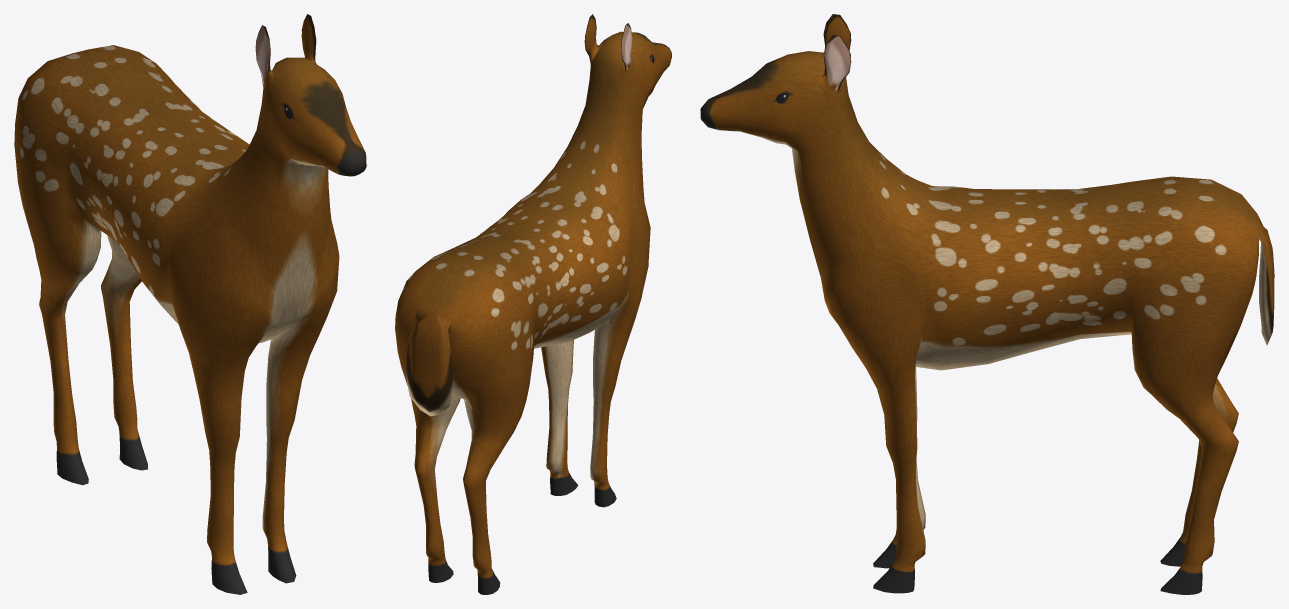
Rendered from deer.fbx.
3 renders of one model, left to right at view 1: azimuth 30°, elevation 25°; view 2: azimuth 150°, elevation 25°; view 3: azimuth 270°, elevation 25°, orthographic. The views are drawn at different scales.
Parts seen in each view (by area): view 1: mesh_deer; view 2: mesh_deer; view 3: mesh_deer.
Part boxes in pixels (<box>): mesh_deer: <box>14,14,366,594</box>; mesh_deer: <box>395,14,671,594</box>; mesh_deer: <box>700,14,1274,594</box>.
Size of the model in its own units: 7.52 by 27.58 by 26.01.
